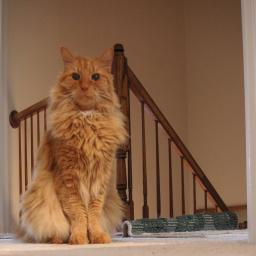catnose: (80, 85, 90, 93)
